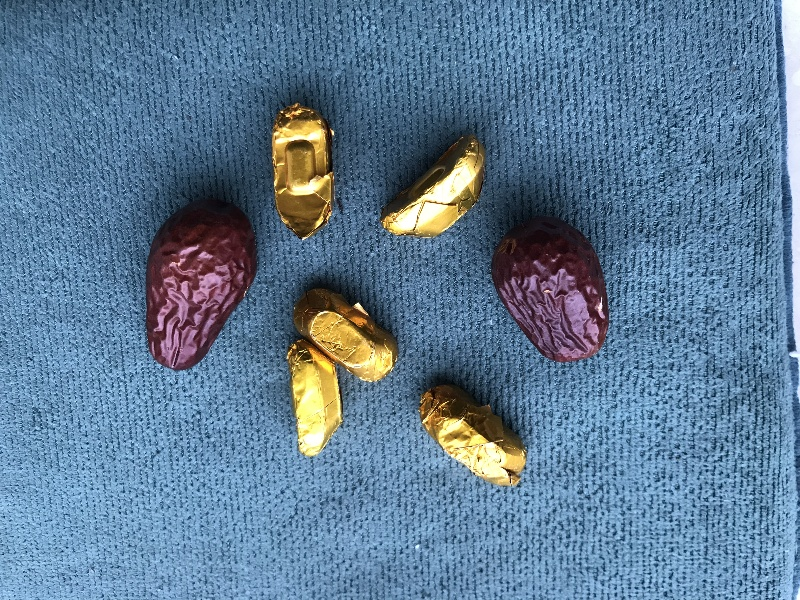date: (145, 198, 259, 377), (490, 215, 611, 361)
